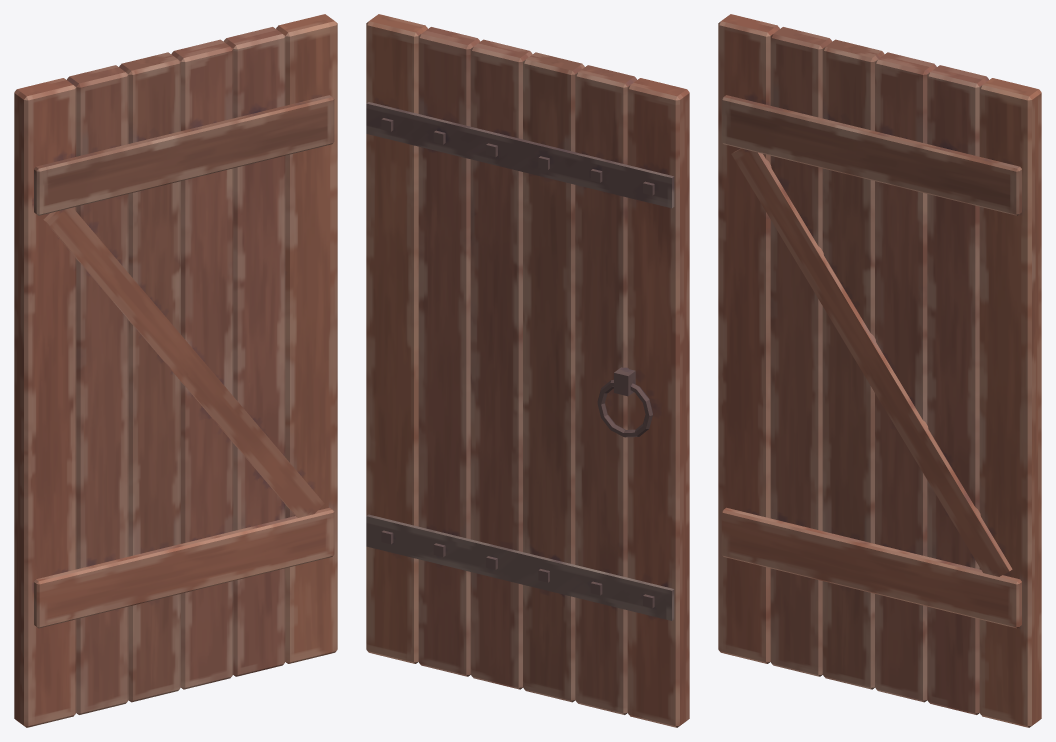
Rendered from door.fbx.
3 renders of one model, left to right at view 1: azimuth 30°, elevation 25°; view 2: azimuth 150°, elevation 25°; view 3: azimuth 330°, elevation 25°, orthographic.
Parts seen in each view (by area): view 1: door; view 2: door; view 3: door.
Boxes of the visible parts, x1,y1,x2,y2 form: door: (14, 14, 337, 727); door: (366, 14, 689, 727); door: (718, 14, 1041, 727).
Bounding box in the file's own units: 3.9 × 7.5 × 0.53.
Materials: 1 (1 with a texture image).
